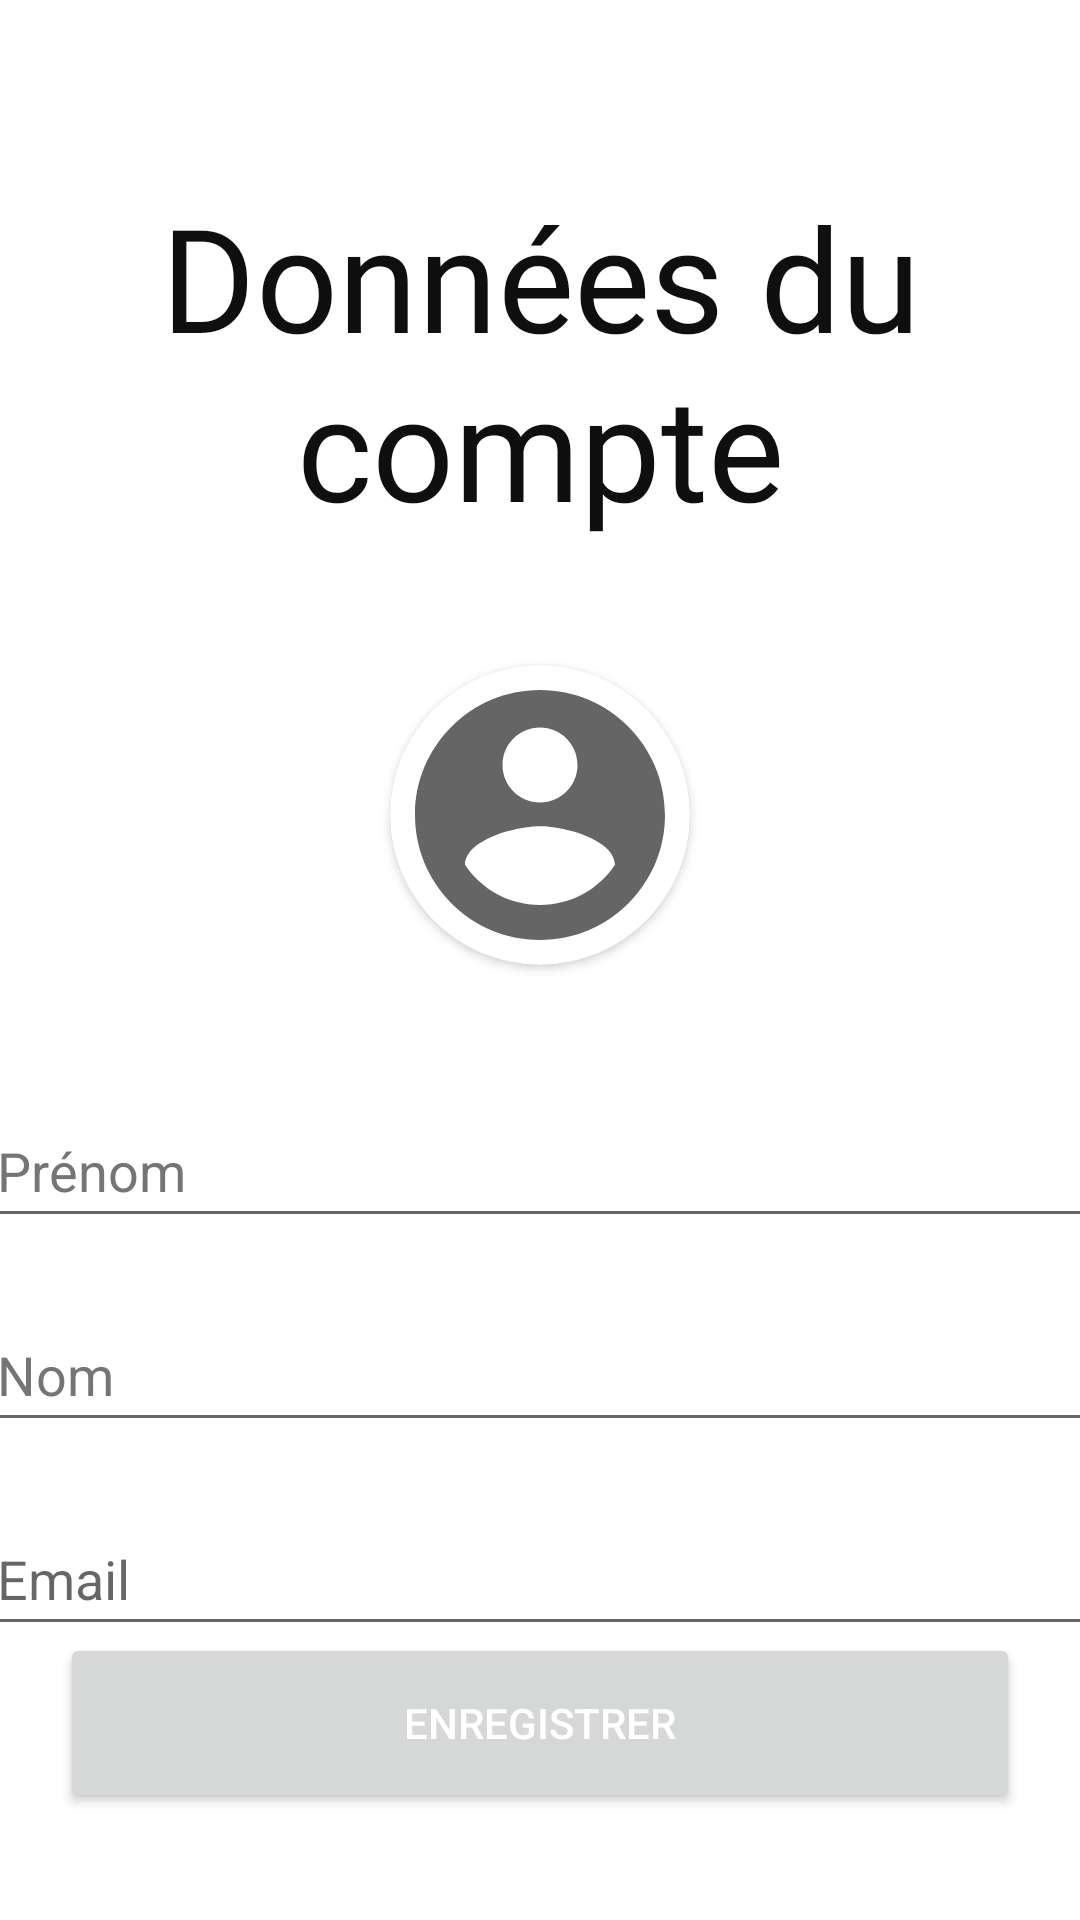

Point at icon controls on the screen. Image size 1080px x 1920px, points as (x,y).
lambda profile: (540,827)
